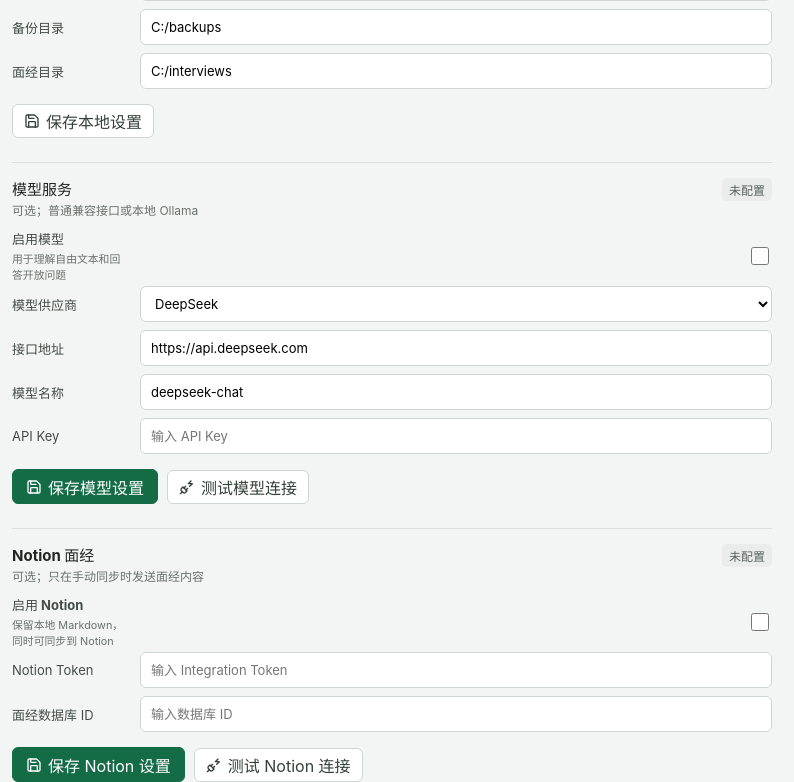
it: SettingsView integrations › shows Notion configuration and connection states without retaining the token
(page scrolled)
Check: the password field labelled "Notion Token" is shown, box [140, 652, 772, 688]
Click the checkbox labelled "启用 Notion". click: (760, 622)
box: [751, 612, 769, 630]
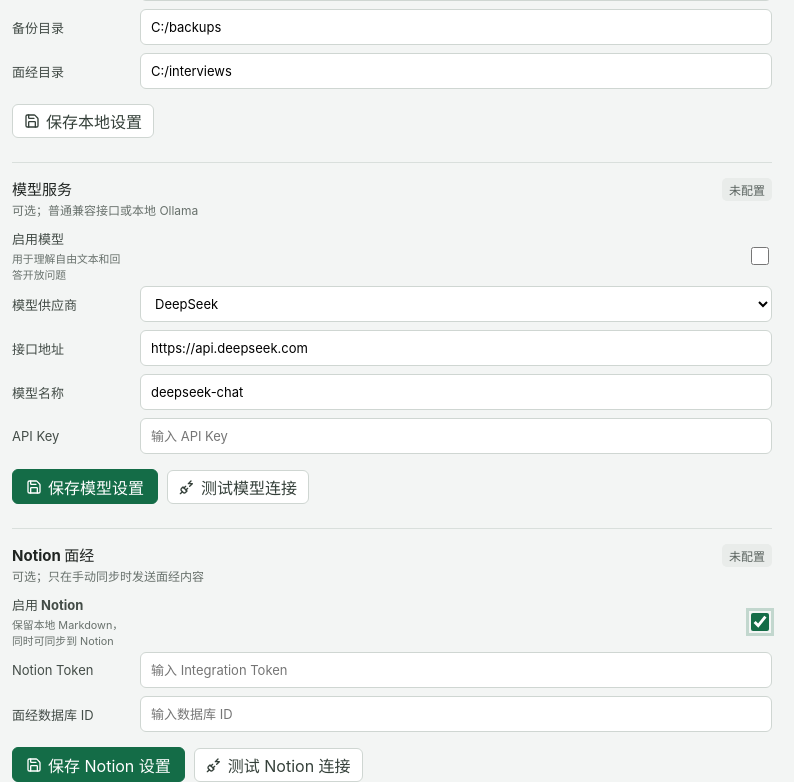
Type "notion-secret" into the password field labelled "Notion Token". click: (456, 670)
box: [140, 652, 772, 688]
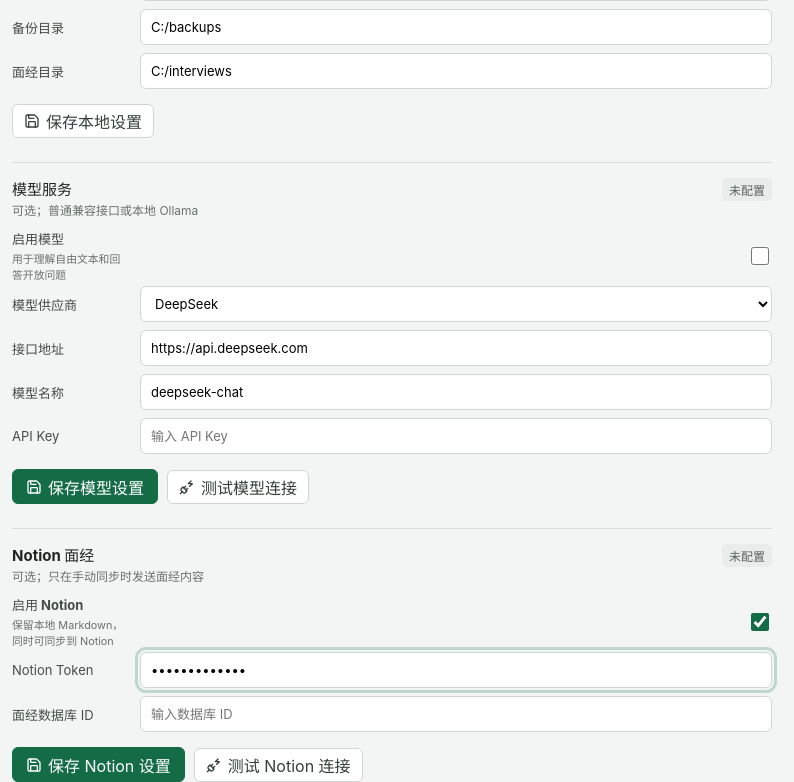
Type "database-id" into the field labelled "面经数据库 ID". click: (456, 714)
box: [140, 696, 772, 732]
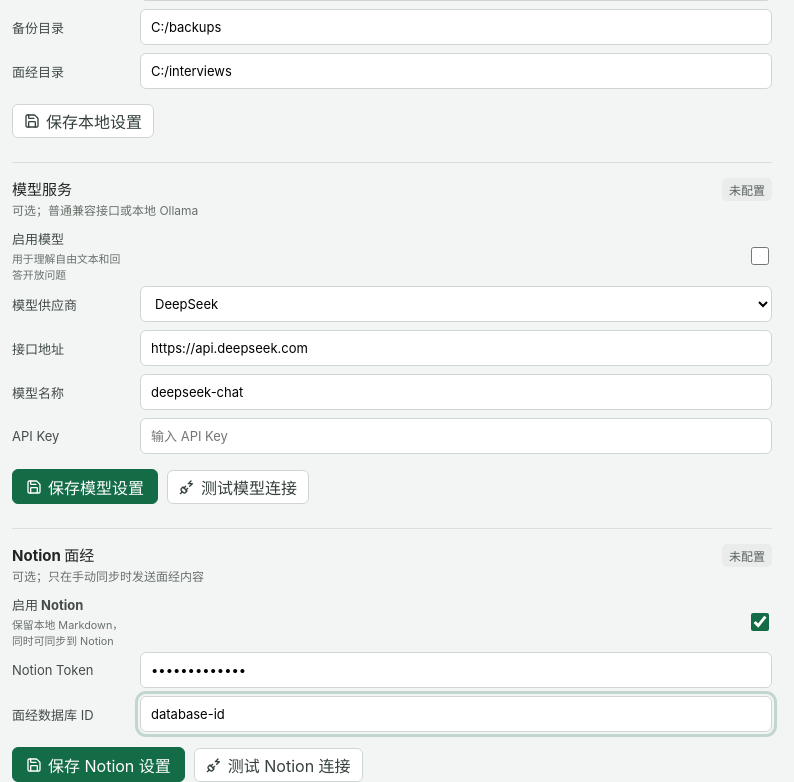
Click the button "保存 Notion 设置". click: (98, 764)
box: [12, 747, 185, 781]
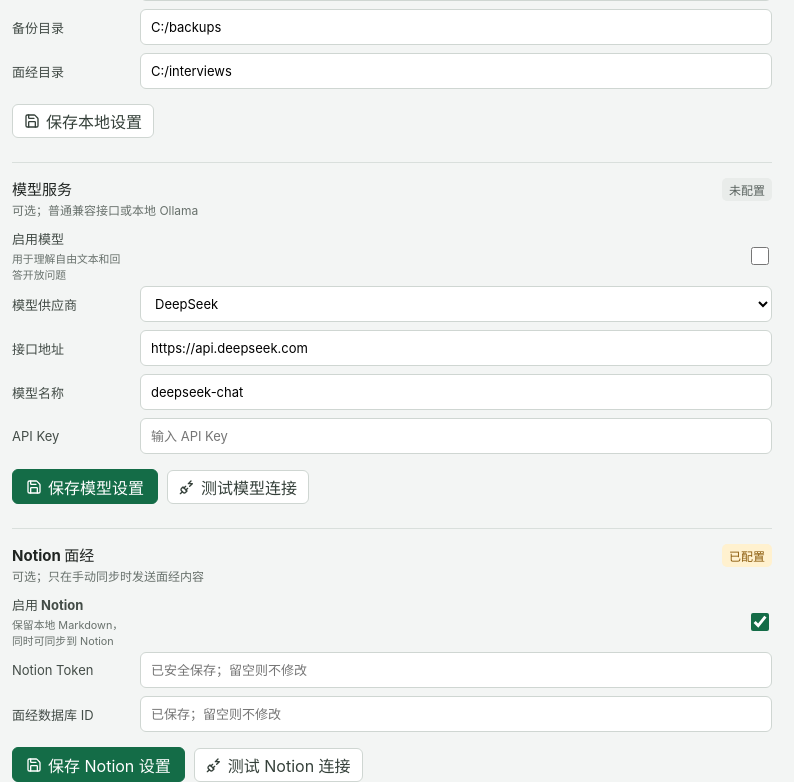
Check: the text "已配置" is shown, box [722, 544, 772, 567]
Click the button "测试 Notion 连接". click: (278, 764)
box: [194, 748, 363, 781]
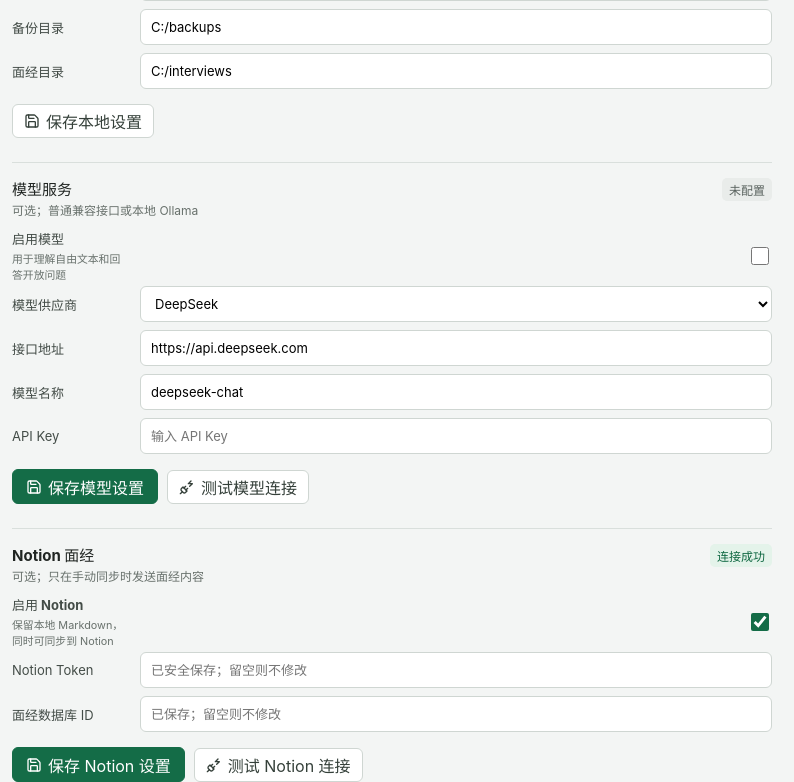
Check: the text "连接成功" is shown, box [710, 544, 772, 567]
